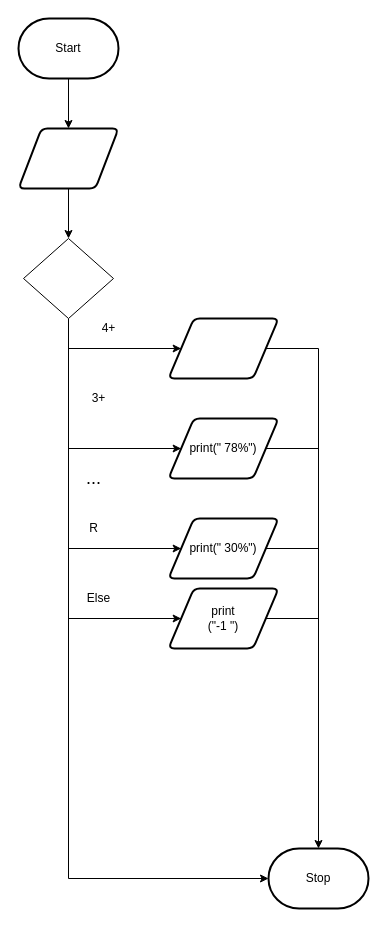
The diagram is 386 pixels wide and 926 high, and some of its shapes have lost their labels. The centre of each missing label's shape, as x and y in pixels:
Check grade: (68,278)
Get grade: (68,158)
print(" 97%"): (223,348)
